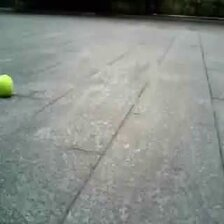tennis: (1, 75, 14, 96)
